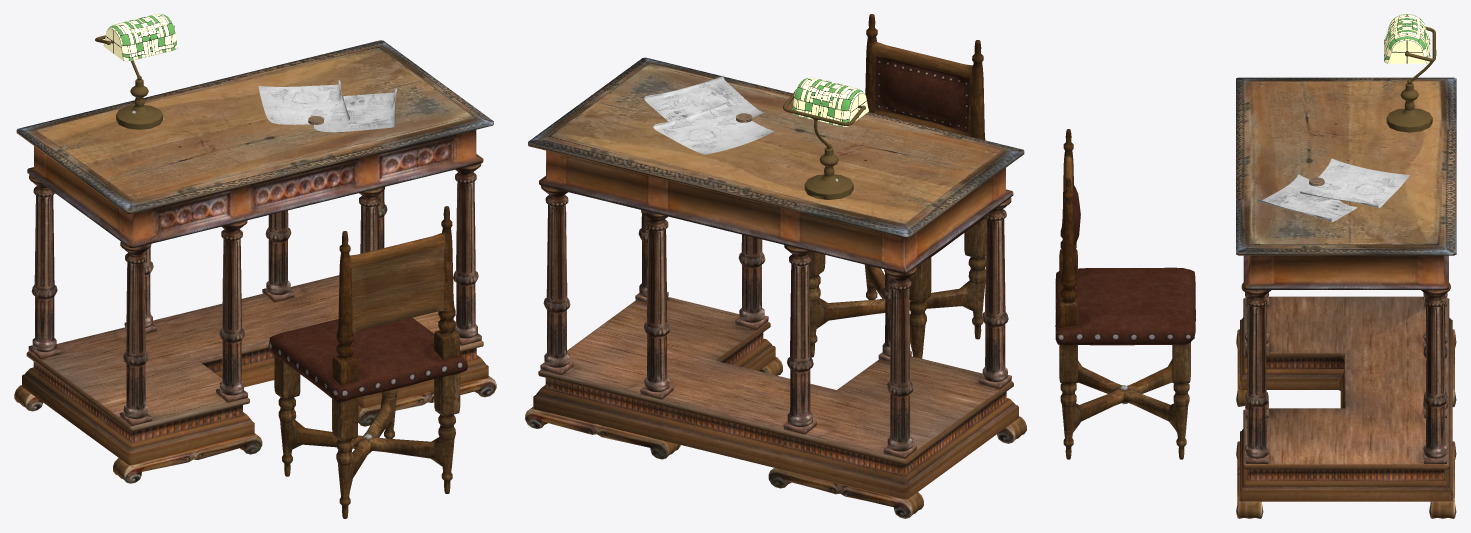
The model's file is desk.glb.
3 renders of one model, left to right at view 1: azimuth 30°, elevation 25°; view 2: azimuth 150°, elevation 25°; view 3: azimuth 270°, elevation 25°, orthographic. The views are drawn at different scales.
Visible parts, largest first — view 1: BIROU_LP, SCAUN_LP, polySurface1_Lamp_0, foaie1, foaie2; view 2: BIROU_LP, SCAUN_LP, polySurface1_Lamp_0, foaie1, foaie2; view 3: BIROU_LP, SCAUN_LP, polySurface1_Lamp_0, foaie1, foaie2.
Boxes of the visible parts, <box> form: BIROU_LP: <box>14,40,496,483</box>; SCAUN_LP: <box>268,206,467,518</box>; polySurface1_Lamp_0: <box>95,14,177,129</box>; foaie1: <box>258,80,349,124</box>; foaie2: <box>314,88,397,132</box>; BIROU_LP: <box>525,57,1026,518</box>; SCAUN_LP: <box>808,14,986,358</box>; polySurface1_Lamp_0: <box>783,77,868,199</box>; foaie1: <box>653,102,776,154</box>; foaie2: <box>644,75,765,121</box>; BIROU_LP: <box>1236,77,1456,518</box>; SCAUN_LP: <box>1055,129,1195,459</box>; polySurface1_Lamp_0: <box>1384,14,1436,132</box>; foaie1: <box>1300,158,1409,208</box>; foaie2: <box>1258,174,1357,222</box>.
Bounding box in the file's own units: 2.97 × 2.89 × 2.83.
Materials: 6 (6 with a texture image).
